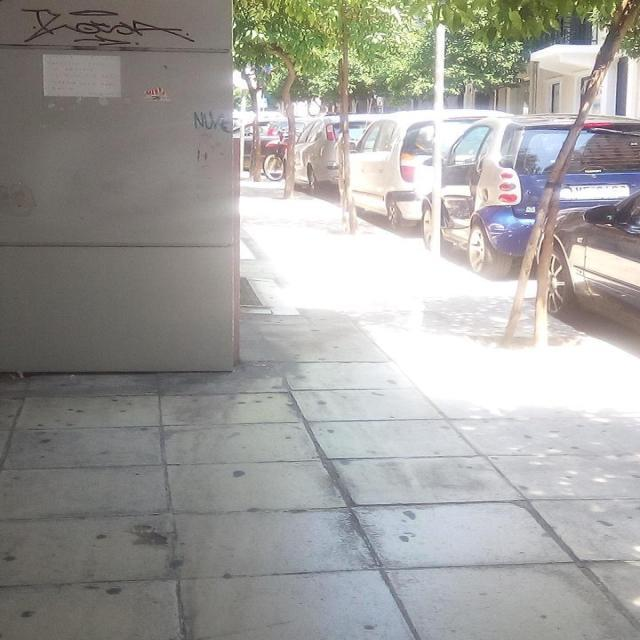nonspitting: (22, 6, 195, 45), (194, 108, 233, 134)
